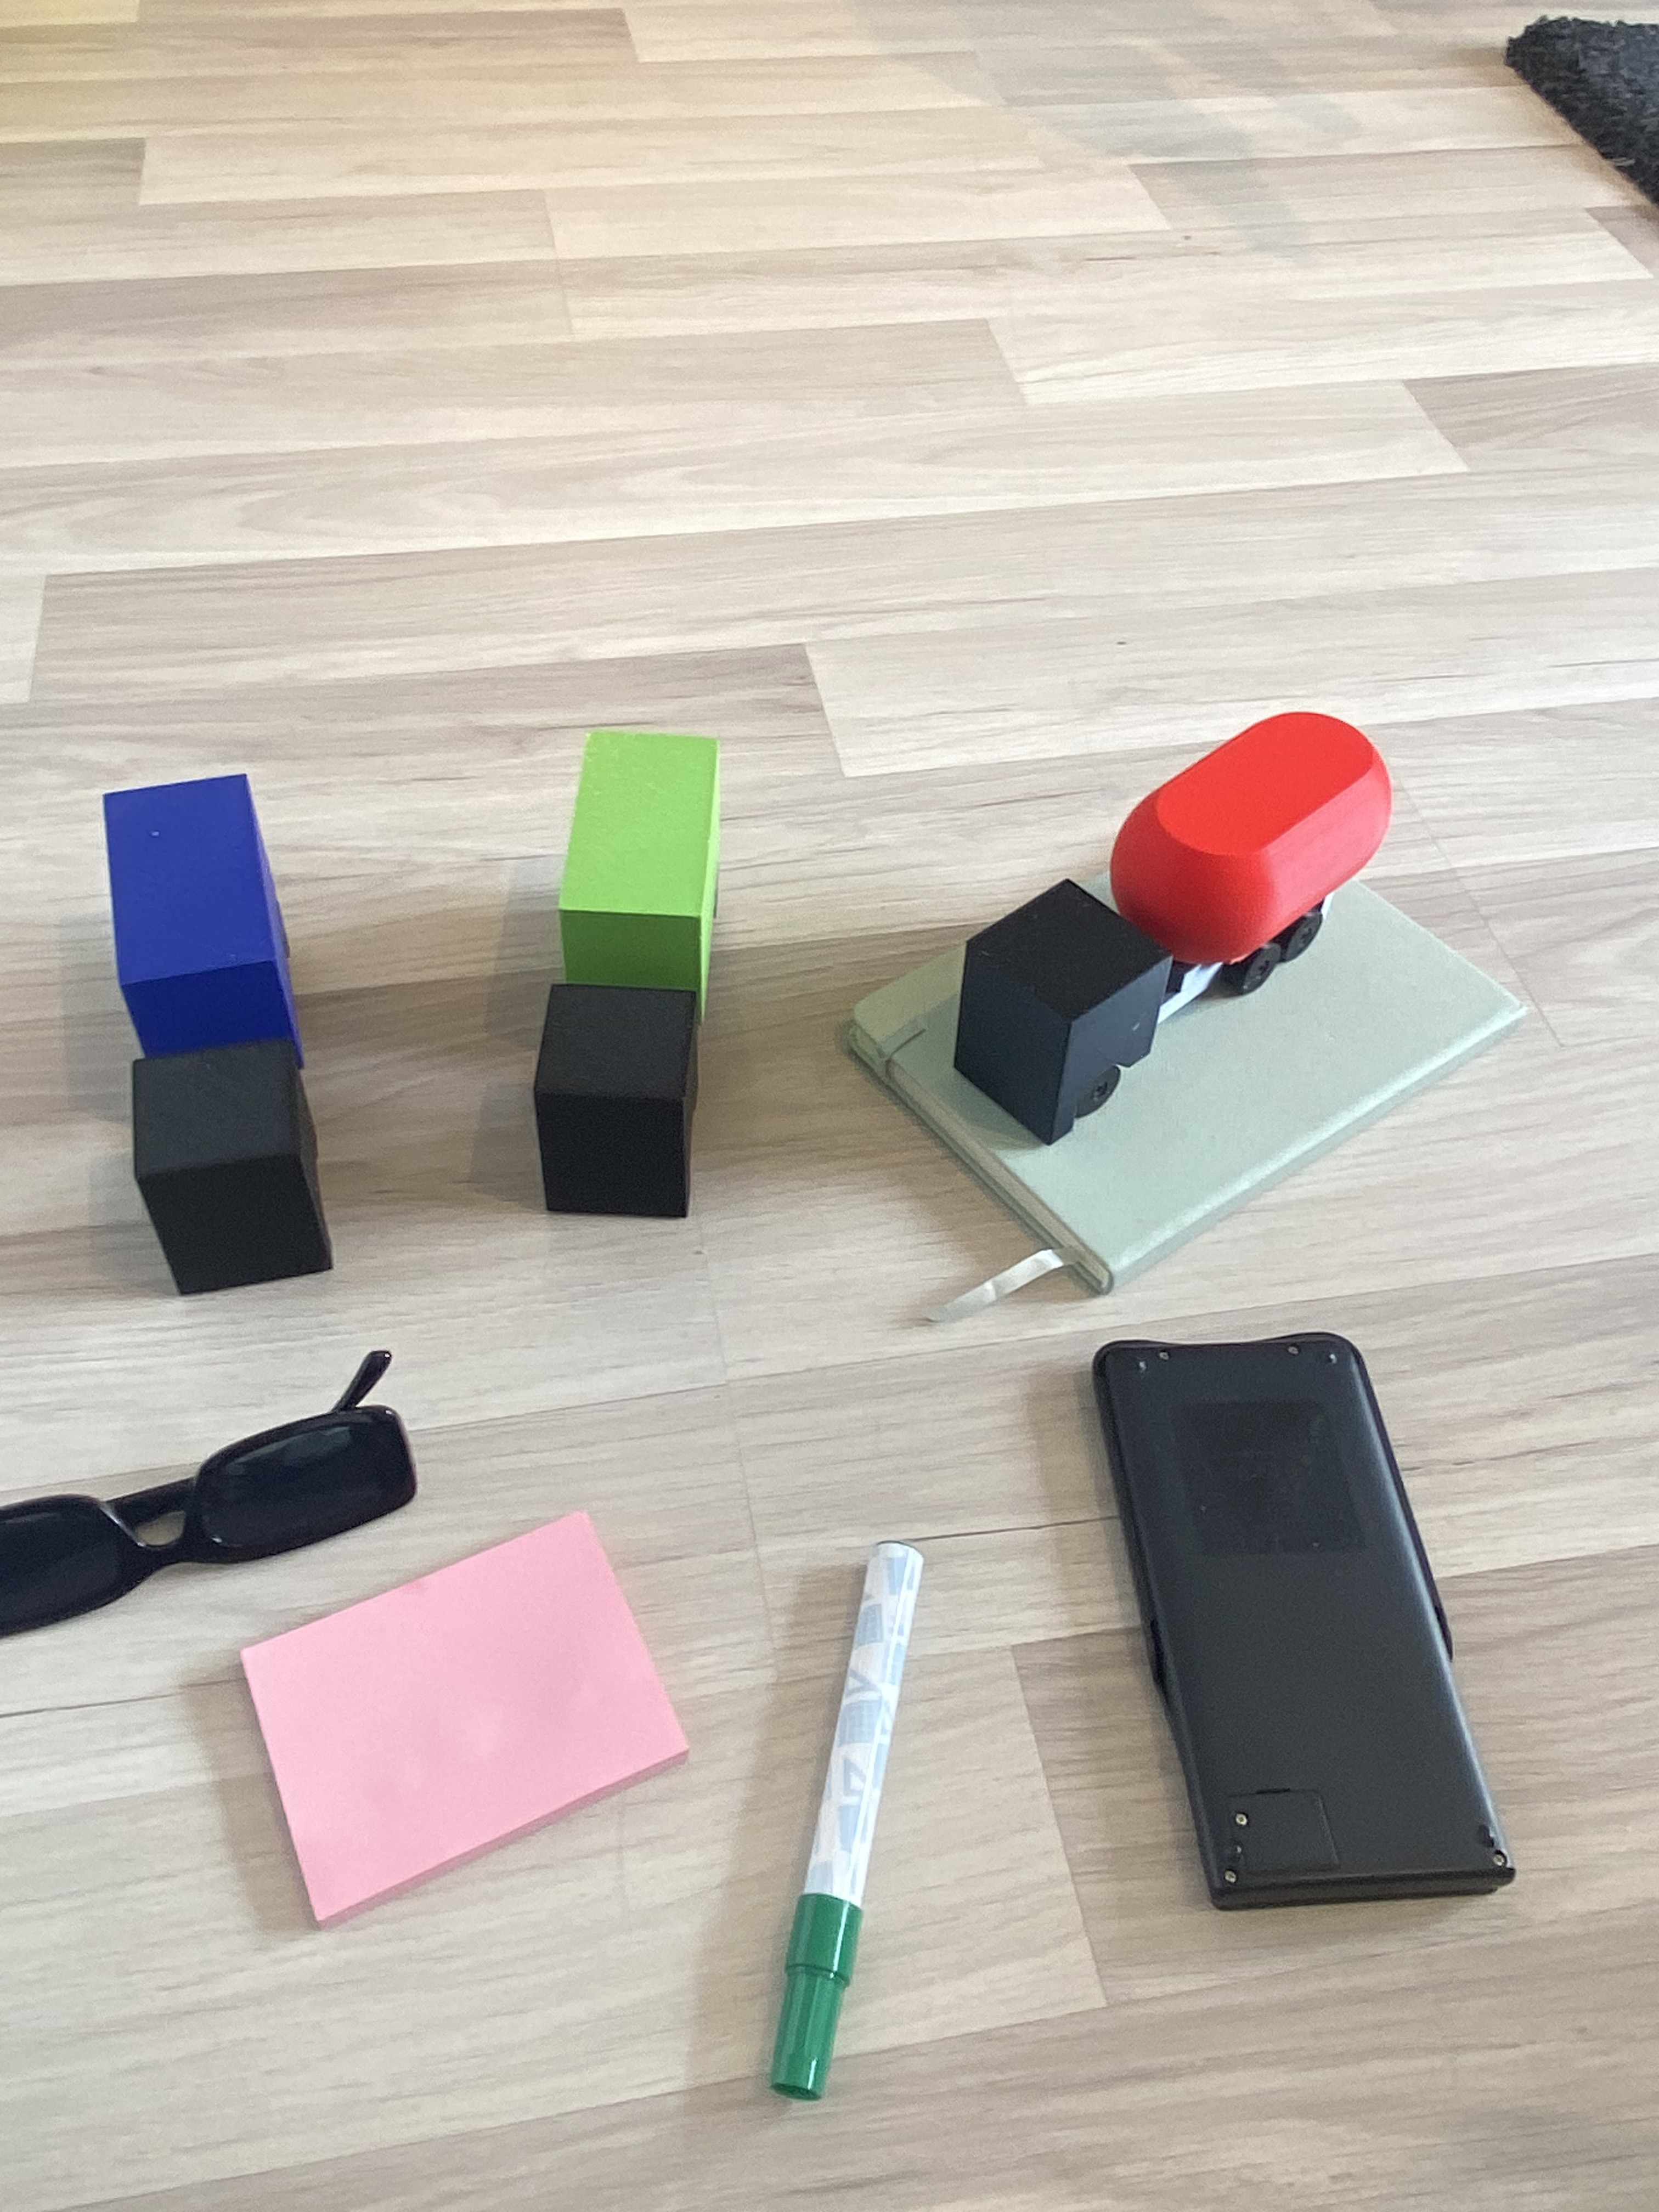blue_truck: (115, 737, 312, 1305)
green_truck: (542, 719, 713, 1233)
red_truck: (1051, 650, 1286, 1186)
